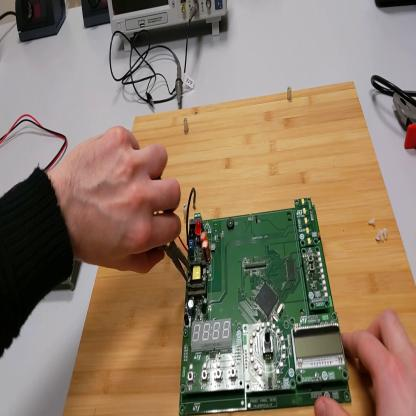hand: (60, 128, 181, 278), (315, 312, 415, 415)
low voltage board: (180, 186, 352, 416)
oscilloscope: (108, 3, 229, 49)
oscilloscope probe tip: (174, 52, 185, 111)
pliers: (163, 242, 194, 283), (395, 91, 416, 151)
socket: (15, 2, 69, 46), (82, 1, 110, 34)
welder station: (375, 2, 415, 9)
working area: (64, 81, 416, 415)
